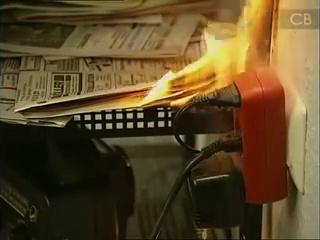Fire: (111, 1, 280, 122)
